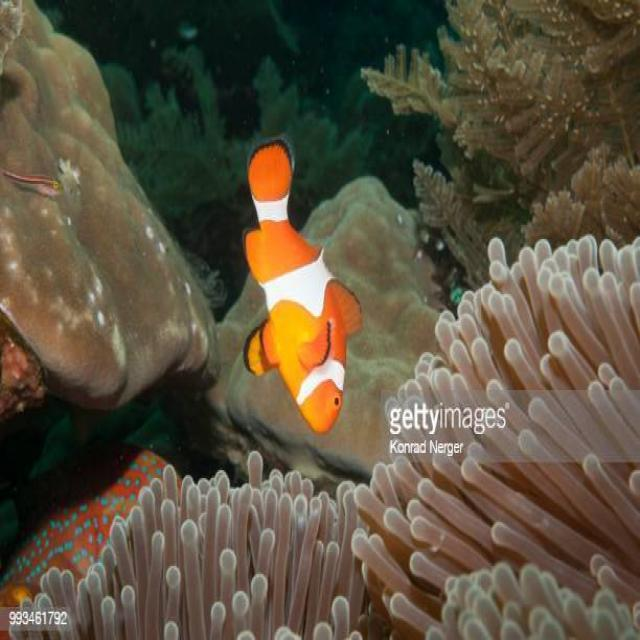ClownFish: (244, 138, 360, 438)
